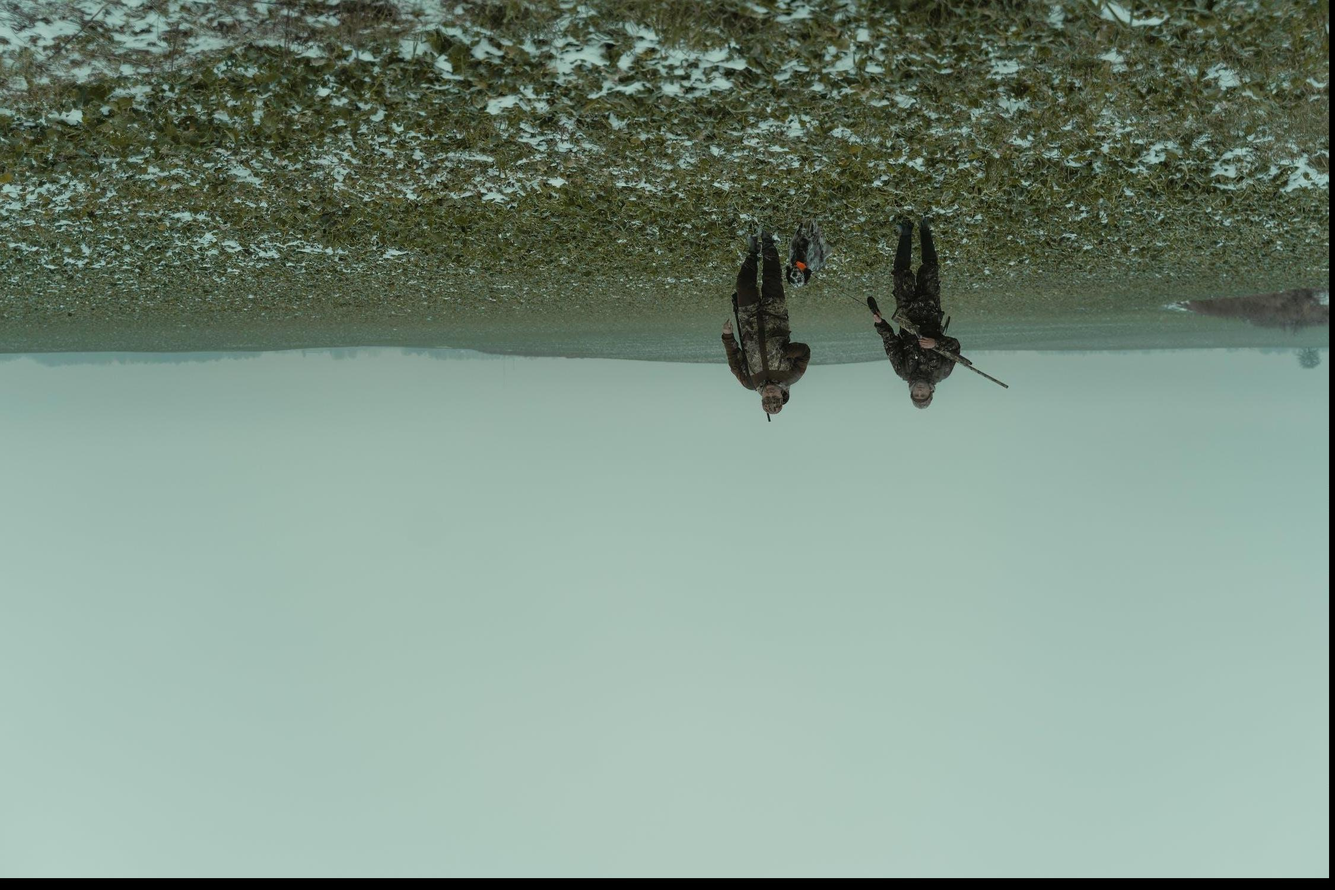larga: (890, 306, 1009, 390)
